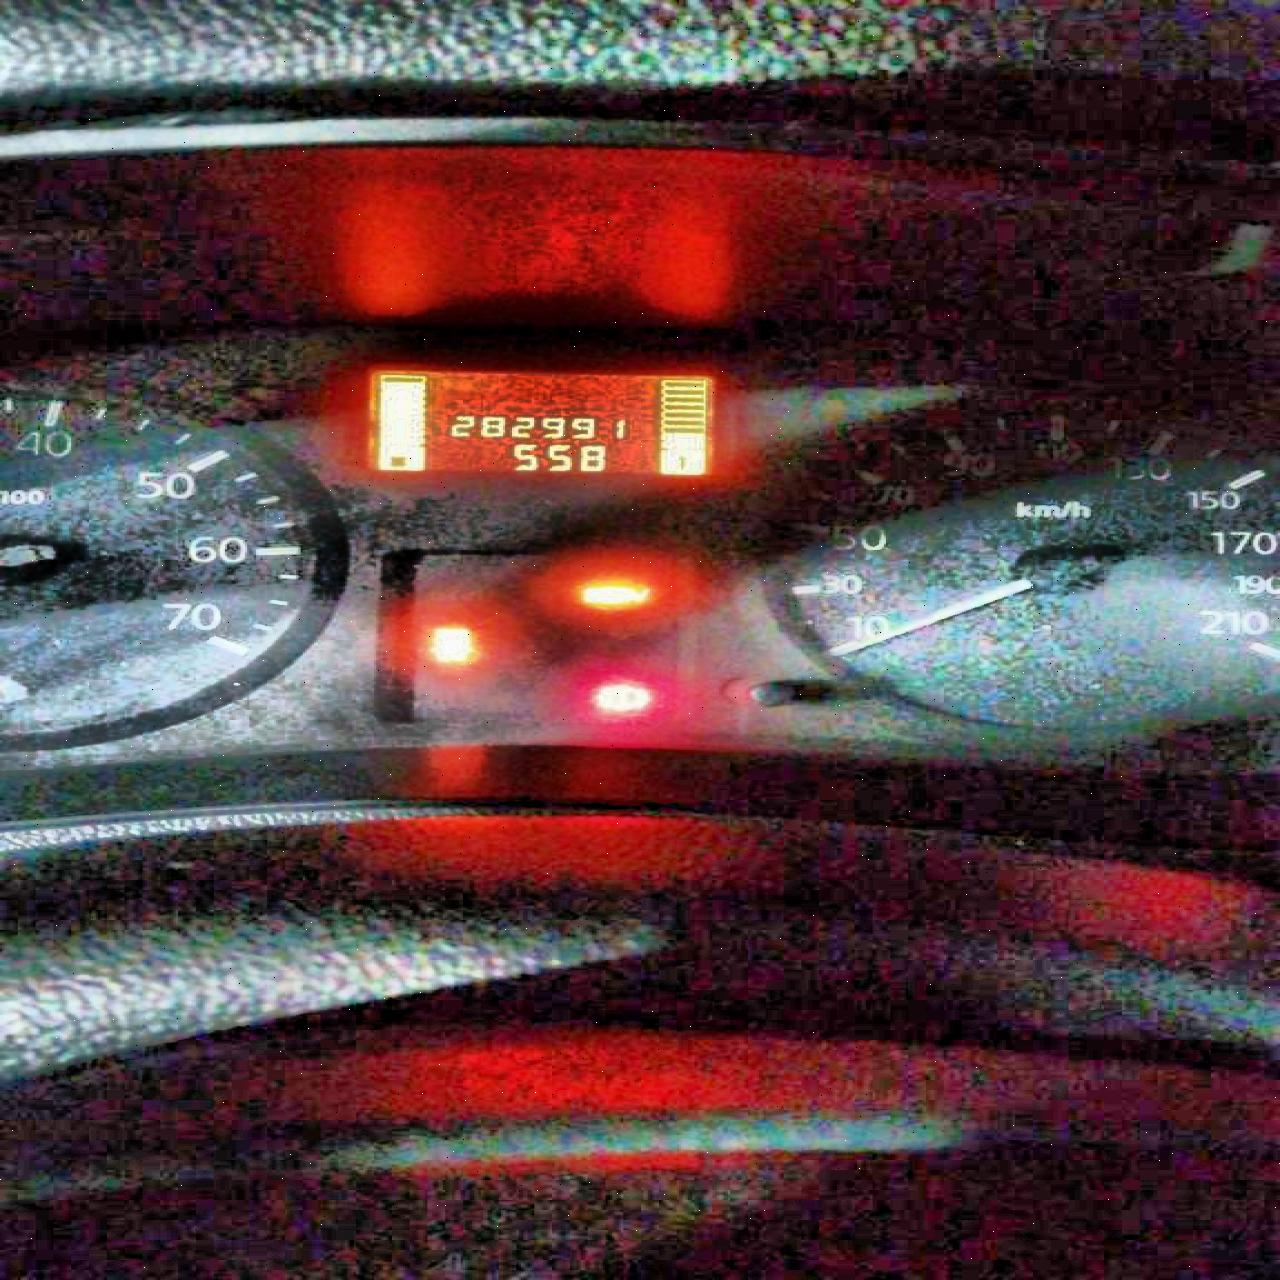1: (610, 416, 628, 440)
2: (508, 414, 535, 437), (448, 413, 475, 436)
5: (508, 441, 538, 470), (543, 442, 572, 470)
8: (574, 443, 606, 471), (478, 414, 505, 436)
9: (539, 415, 564, 437), (570, 415, 594, 437)
odometer: (361, 365, 723, 479)
